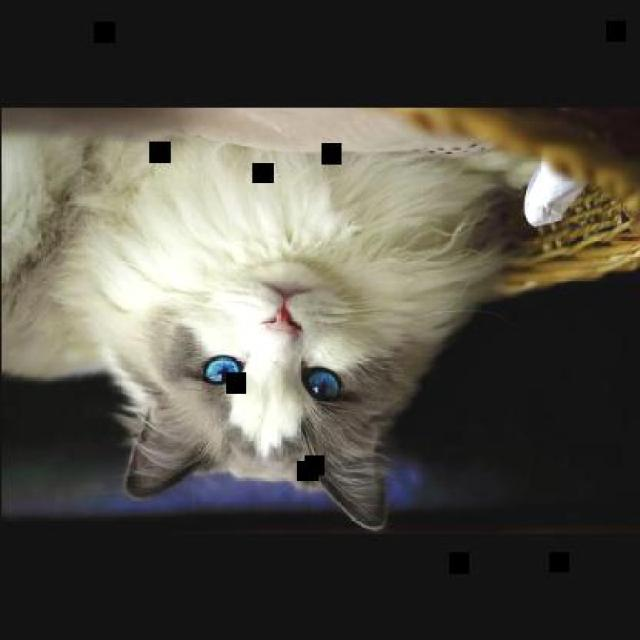unauthorized: (0, 107, 638, 530)
